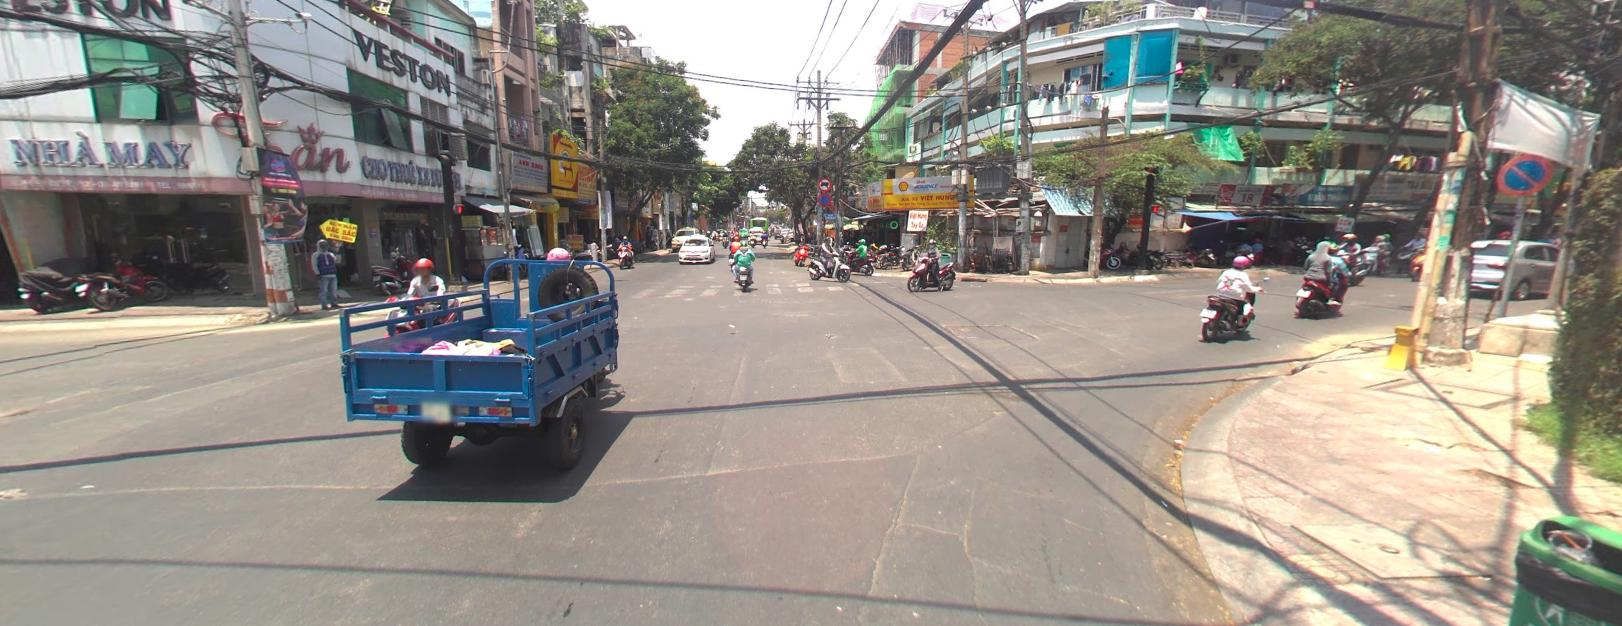Cam con lai: (815, 176, 832, 190)
Cam dung va do: (816, 191, 834, 208)
